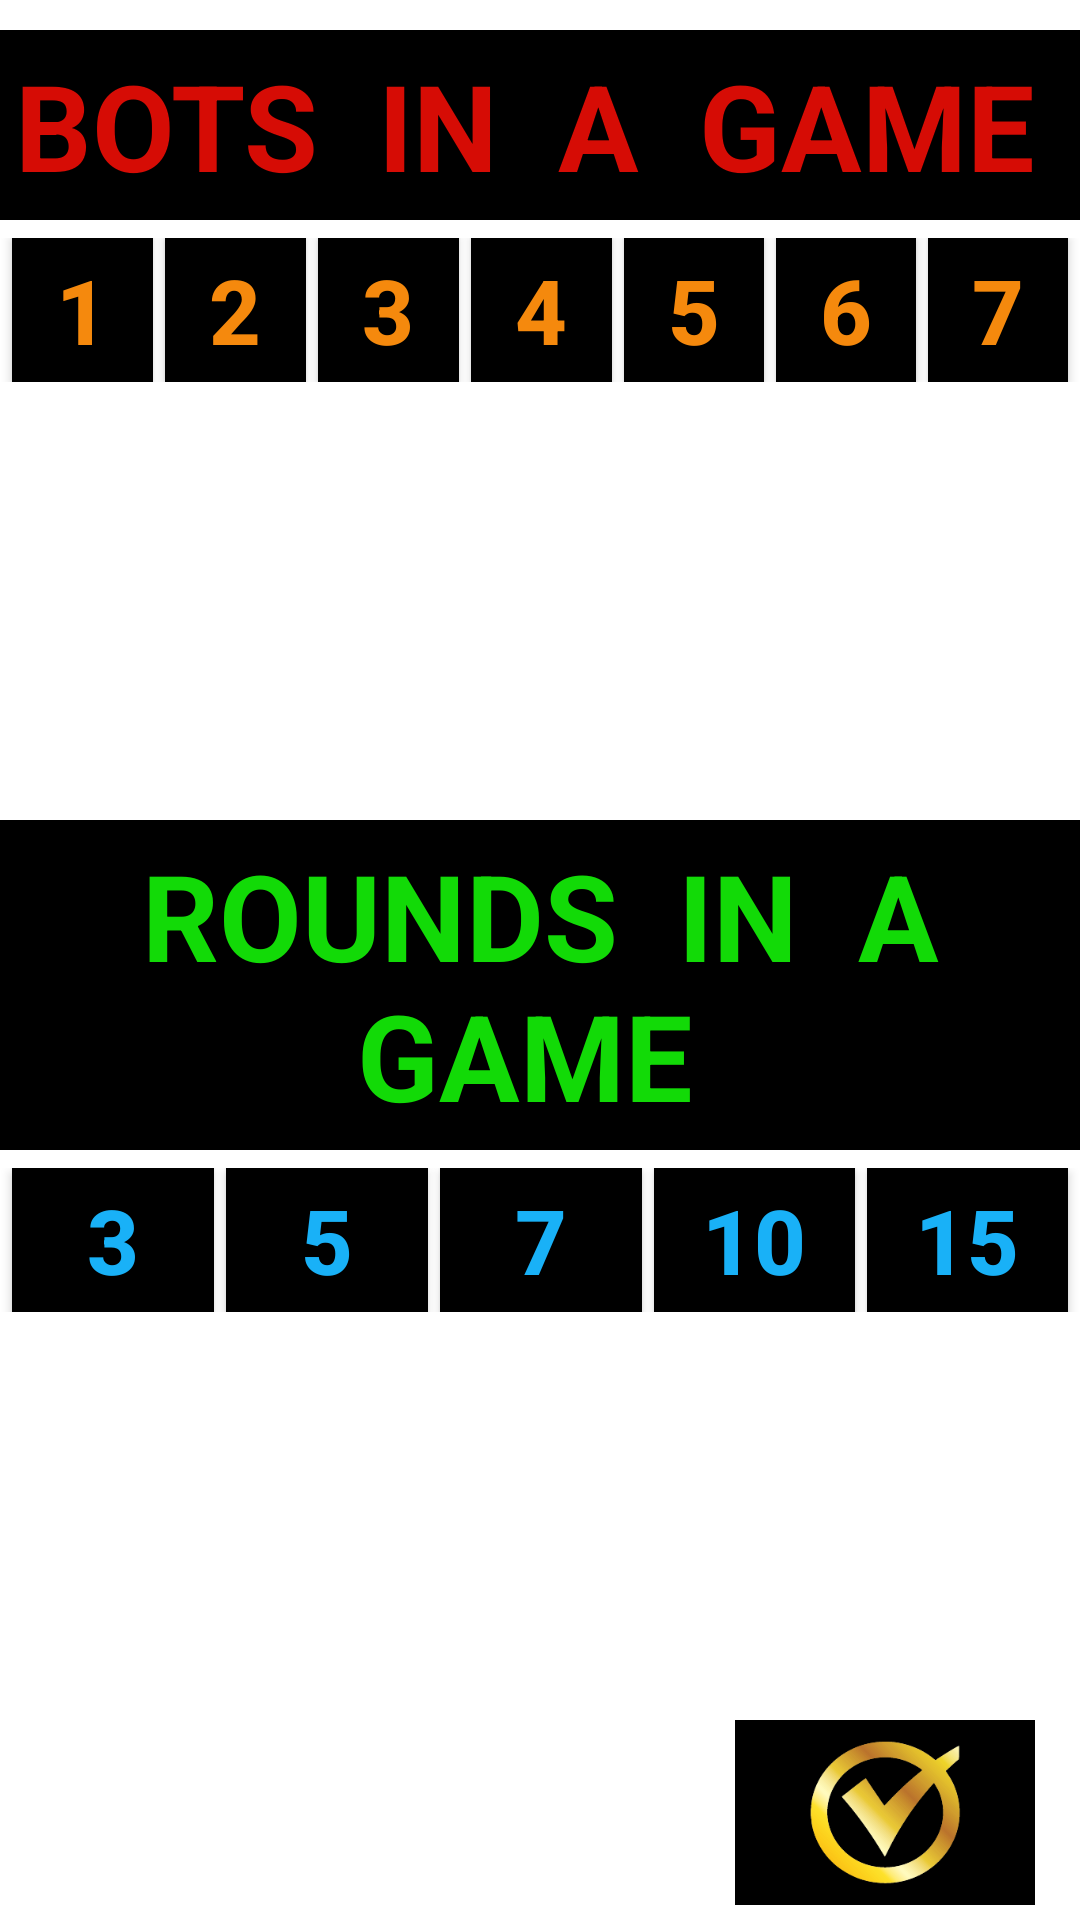

Icons on this 1080x1920 Android screen, each with its box as (x1, y1, x2, y2):
done: (735, 1720, 1035, 1905)
